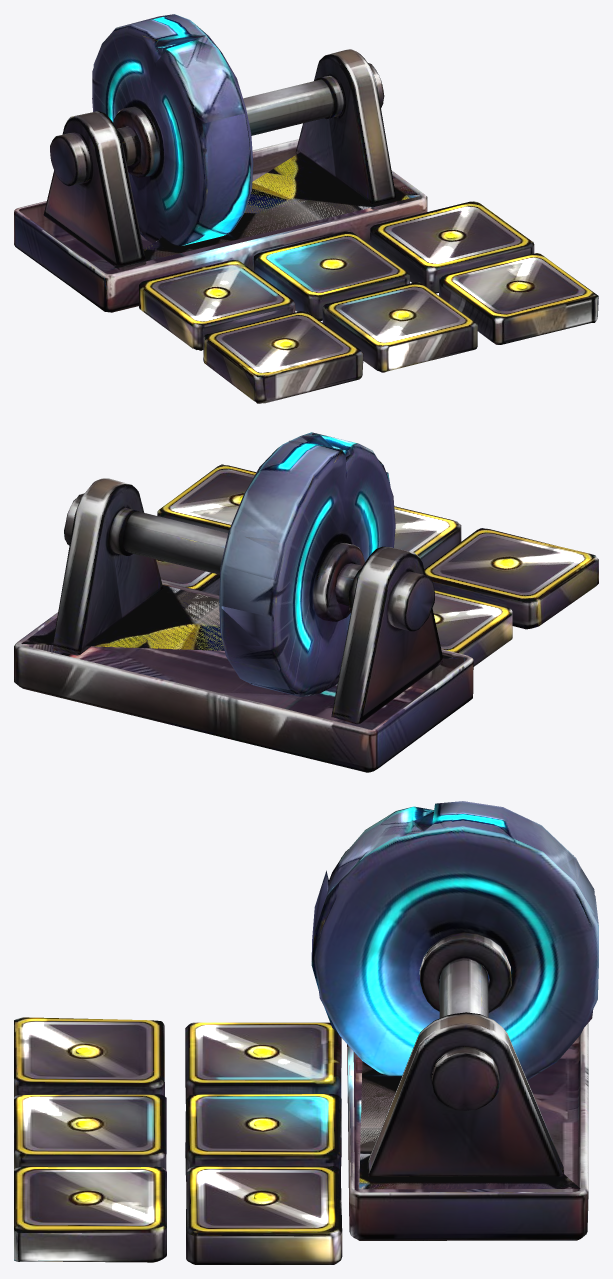
File: equal_grind.glb
3 views of the same model, one above another, from view 1: azimuth 30°, elevation 25°; view 2: azimuth 150°, elevation 25°; view 3: azimuth 270°, elevation 25° (orthographic). The views are drawn at different scales.
Bounding box in the file's own units: 0.9277 × 0.5586 × 1.
1 material, 1 textured.
